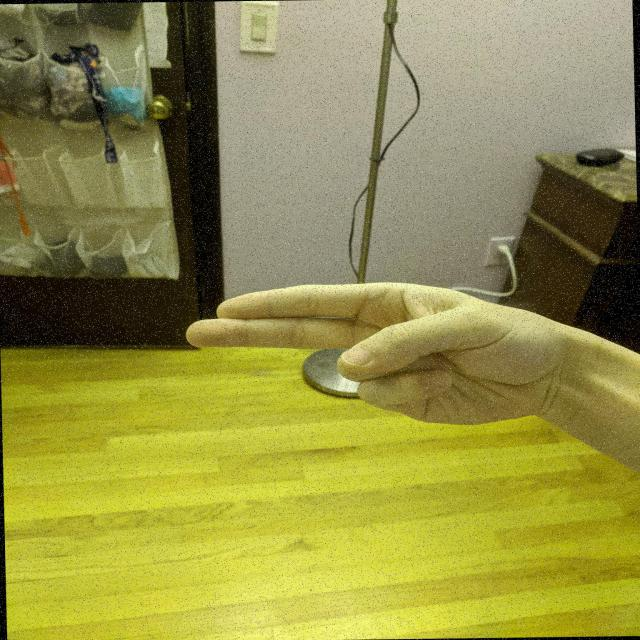H: (175, 274, 558, 436)
